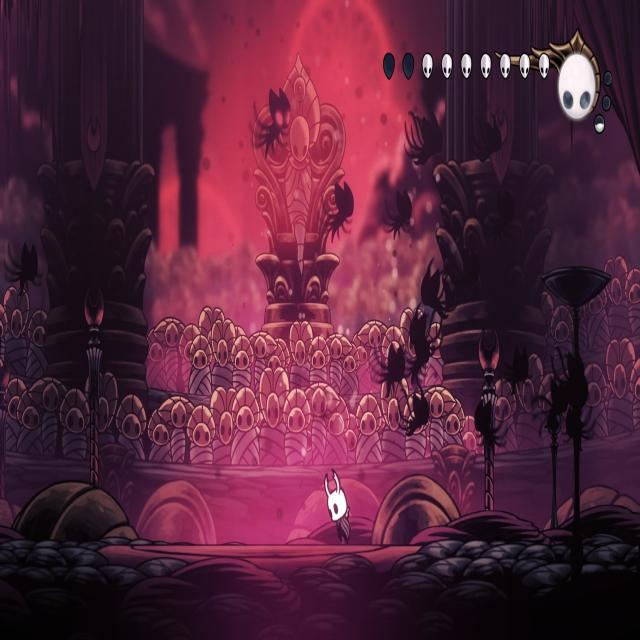Player: (325, 464, 355, 547)
Staggered_Grimm: (248, 84, 294, 162)
